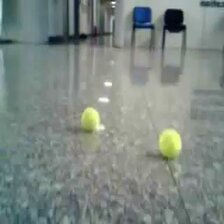tennis: (158, 127, 182, 157), (81, 108, 99, 129)
